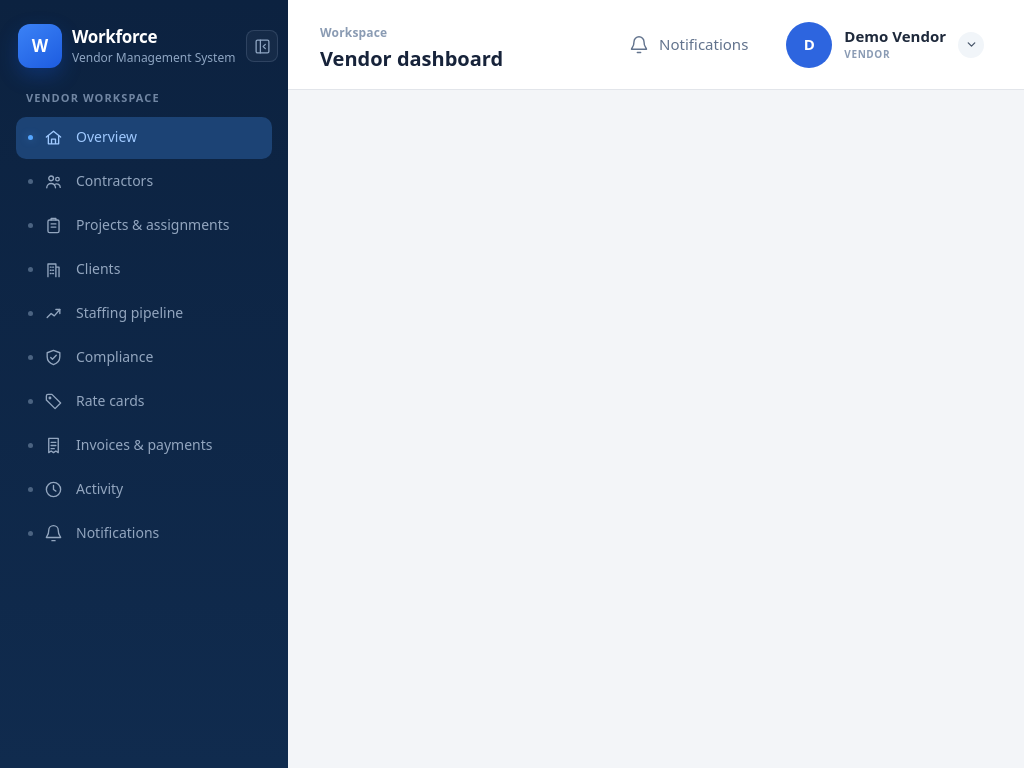
Collapsible sidebar interaction, state, and accessibility › B, C, G: toggle collapses and expands sidebar, exposes aria-expanded, and manages label visibility
The width and height of the screenshot is (1024, 768).
Expected: the text "Projects & assignments" is shown, [76,215,230,234]
Expected: the text "Contractors" is shown, [76,171,153,190]
Click the button named "Collapse sidebar".
click(262, 46)  # box [246,30,278,62]
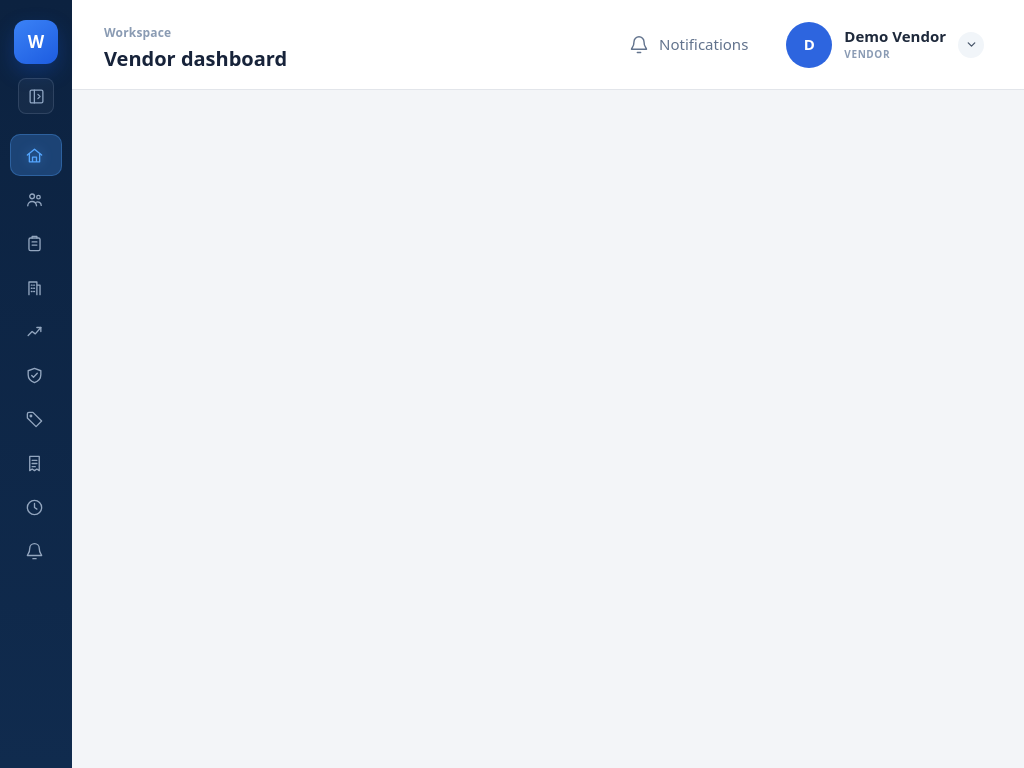
Expected: the button named "Collapse sidebar" is collapsed
Click the button named "Collapse sidebar".
click(36, 96)  # box [18,78,54,114]
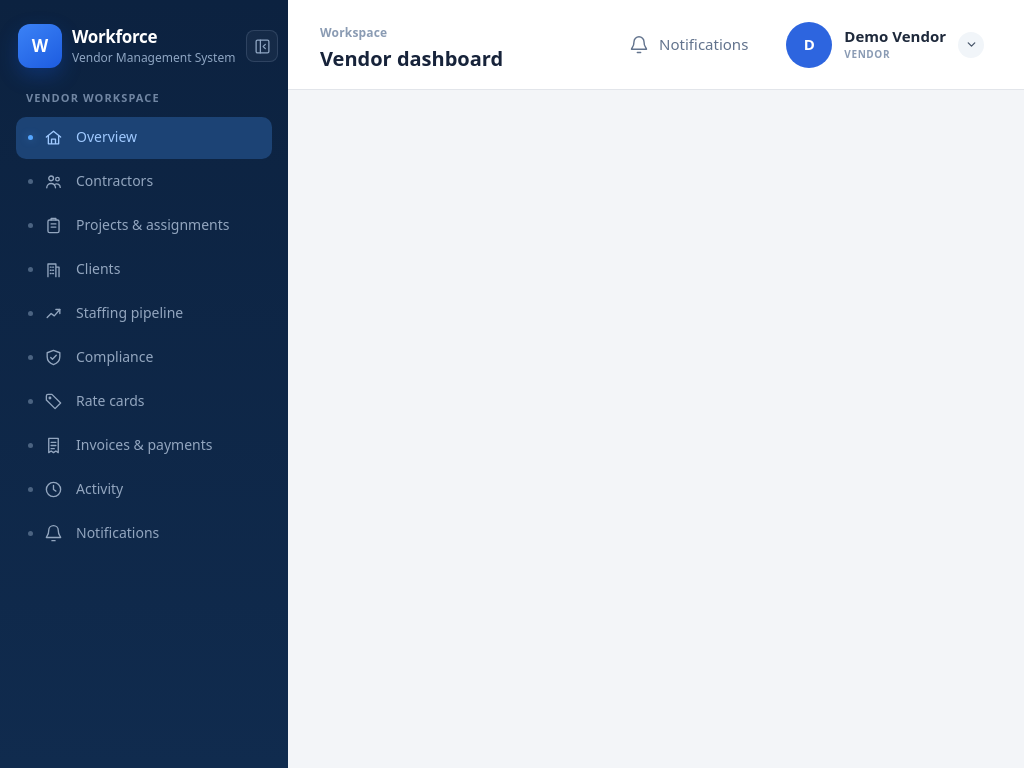
Expected: the button named "Collapse sidebar" is expanded, [246,30,278,62]
Expected: the text "Projects & assignments" is shown, [76,215,230,234]
